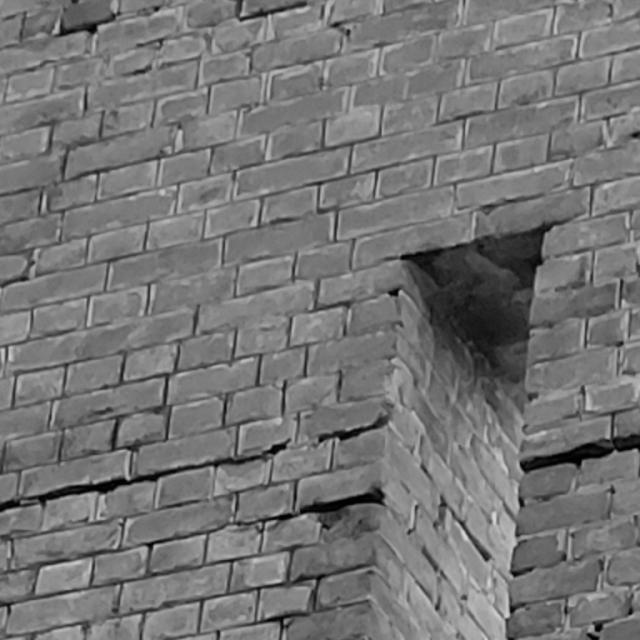crack: (0, 437, 292, 512), (419, 462, 491, 562), (520, 434, 638, 474), (260, 486, 386, 522), (314, 411, 390, 445), (57, 9, 121, 37), (234, 1, 308, 22)
